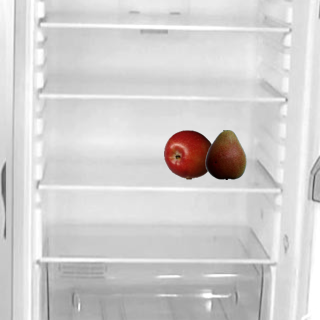Apple Braeburn: (163, 129, 213, 179)
Pear Forelle: (200, 129, 250, 179)
